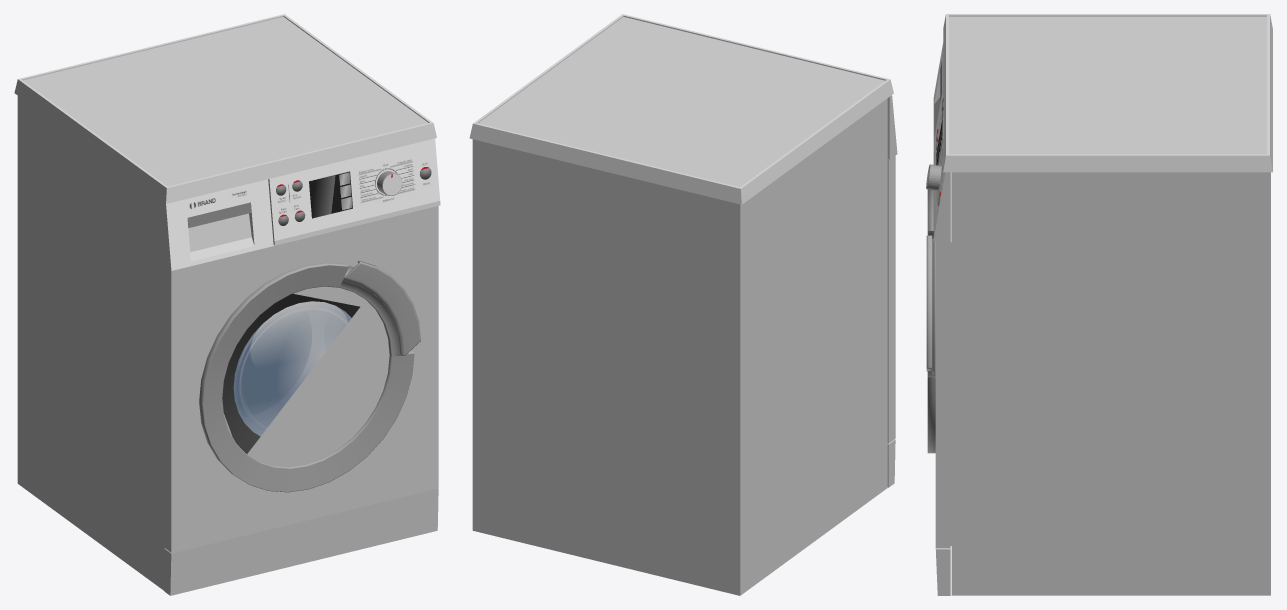
File: sh_scopia_clothes_washing_machine.glb
3 renders of one model, left to right at view 1: azimuth 30°, elevation 25°; view 2: azimuth 150°, elevation 25°; view 3: azimuth 270°, elevation 25°, orthographic. The views are drawn at different scales.
Size of the model in its own units: 0.59 by 0.842 by 0.601.
9 materials, 2 textured.
